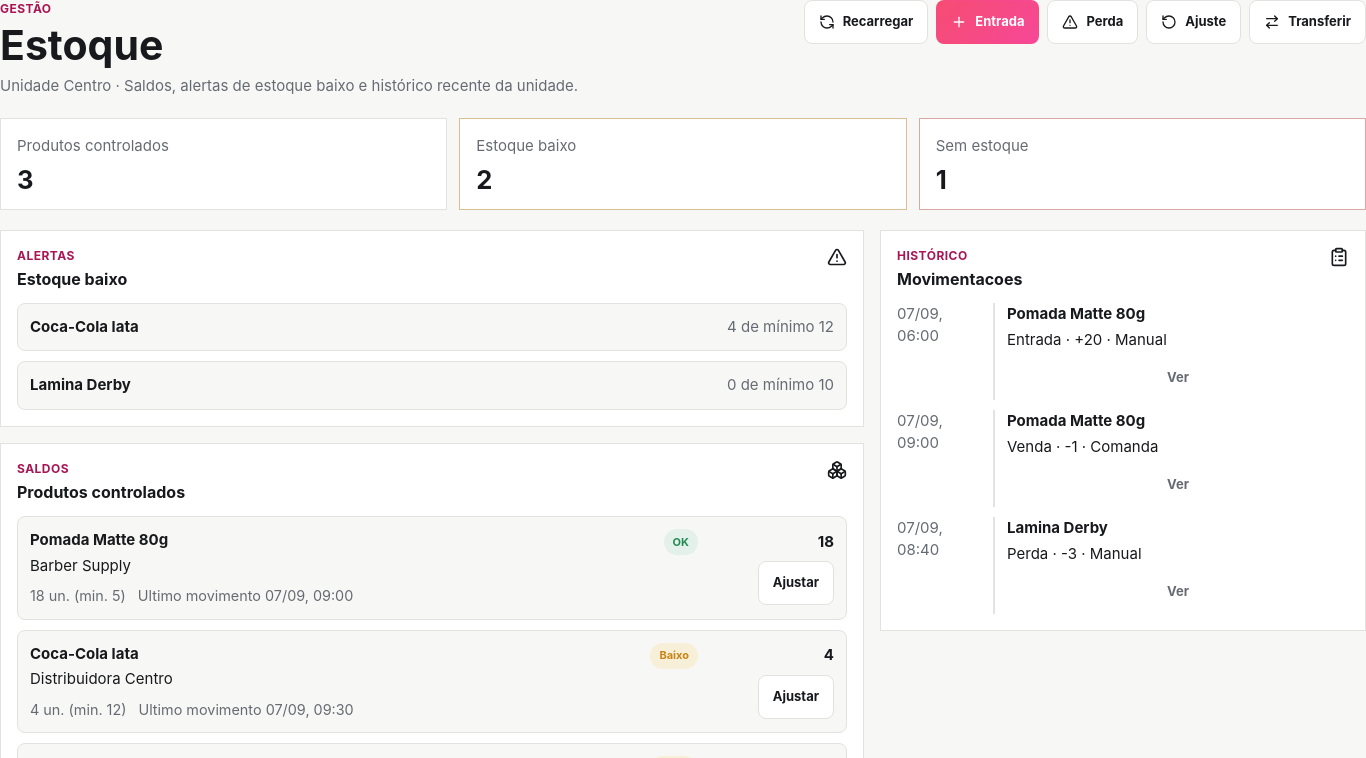
Test: InventoryView › opens manual entry, adjustment and movement detail dialogs
The width and height of the screenshot is (1366, 758).
What coordinates should you click on to do the following:
click the button "Entrada"
I would click on:
 (988, 22)
Its box is [936, 0, 1040, 44].
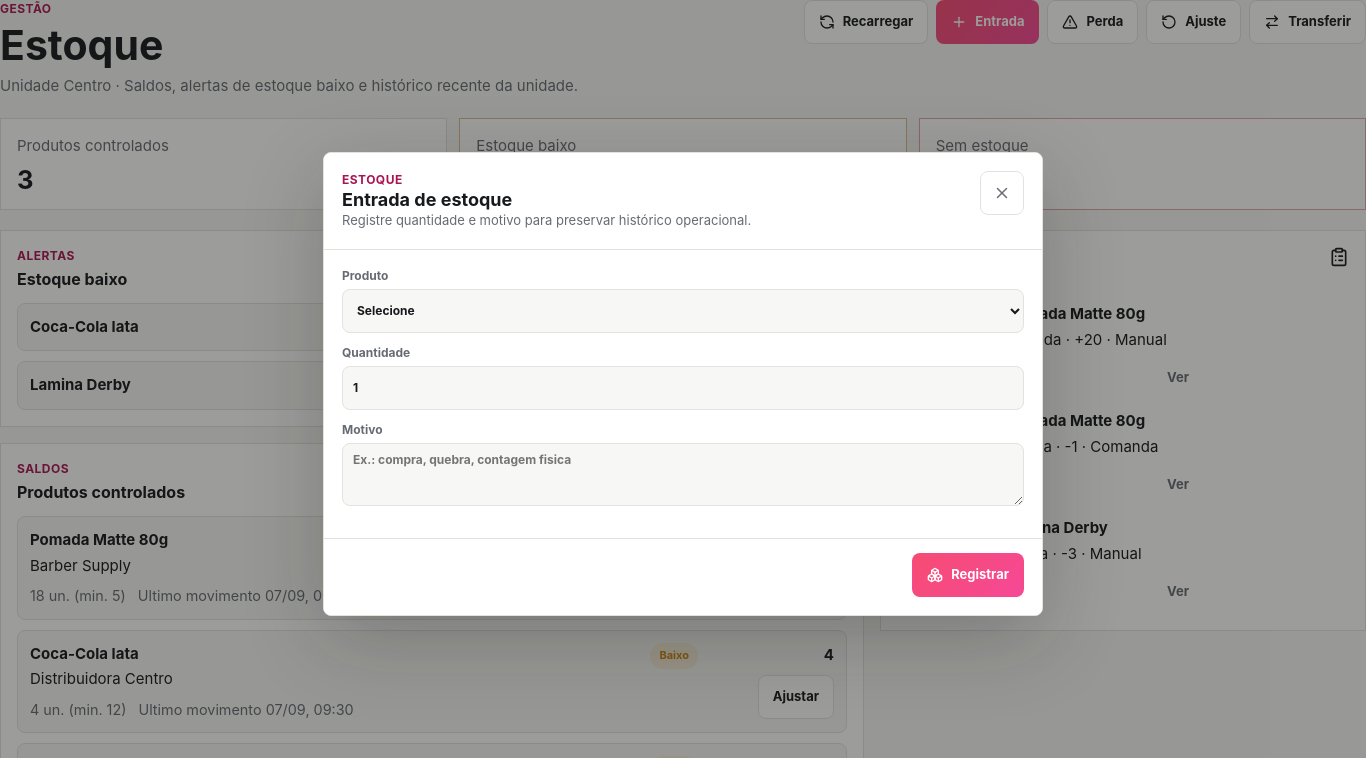
expect the dialog shows "Entrada de estoque": met, box [342, 190, 512, 210]
expect the button named "Fechar" is shown: met
What coordinates should you click on to do the following:
click the button named "Fechar"
I would click on:
 (1002, 194)
Its box is [980, 172, 1024, 216].
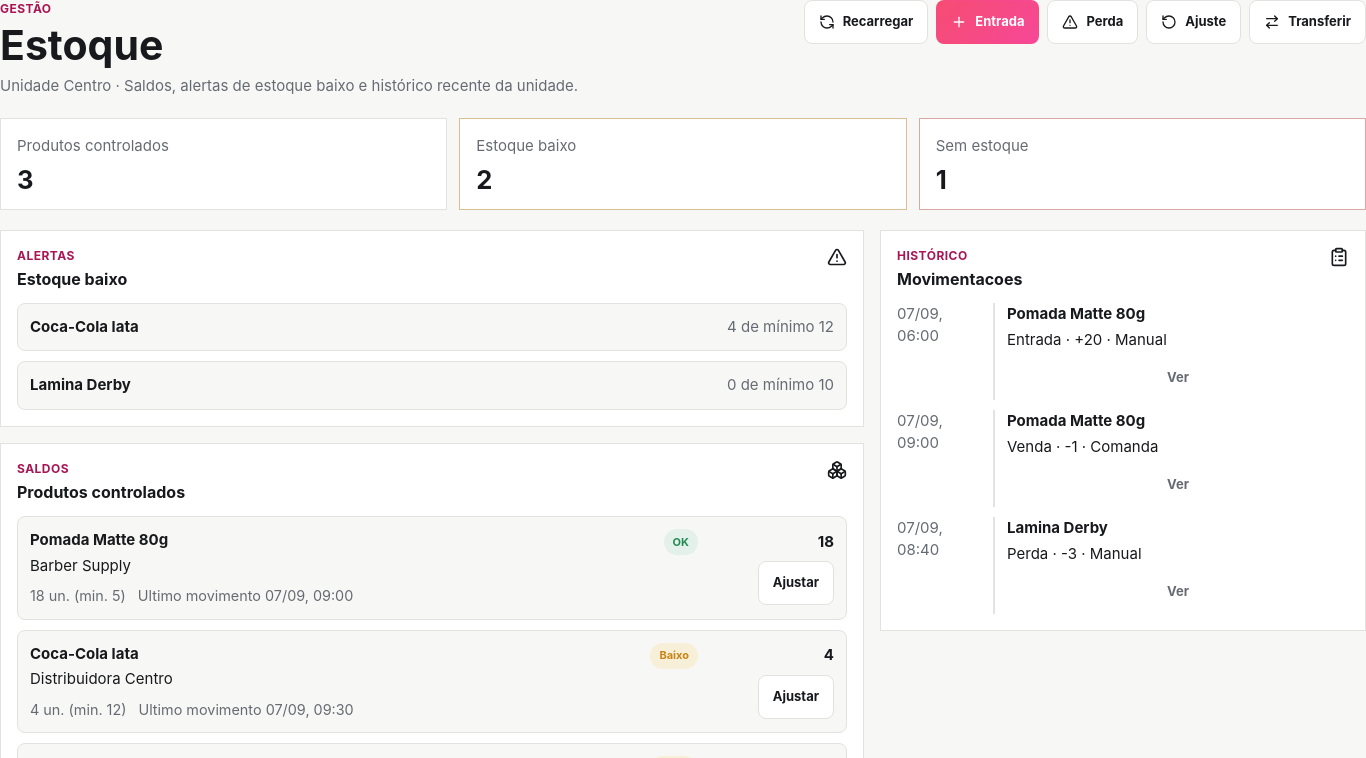
What coordinates should you click on to do the following:
click the button "Ajustar" in the row of "18 un. (min. 5)"
I would click on:
 (796, 583)
Its box is [758, 561, 834, 605].
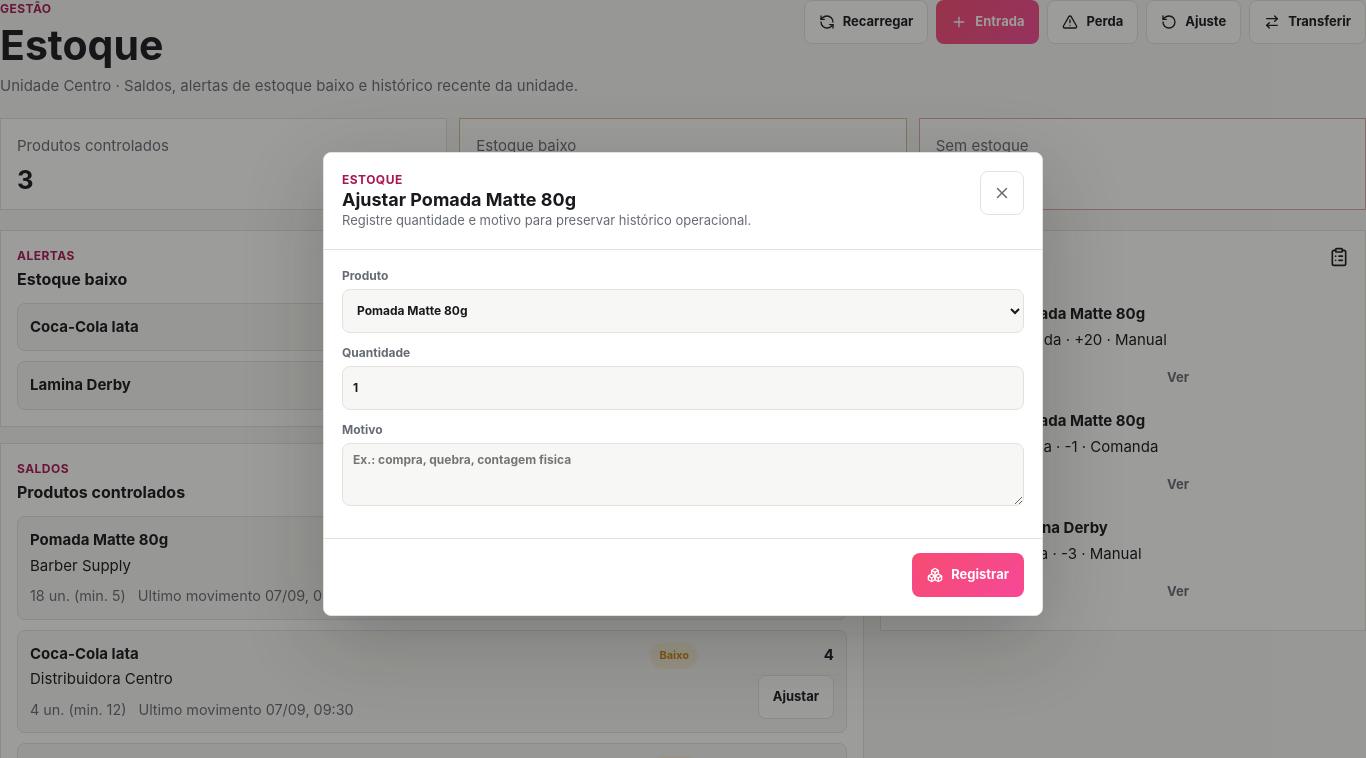
expect the dialog shows "Registrar": met, box [912, 552, 1024, 596]
expect the button named "Fechar" is shown: met
What coordinates should you click on to do the following:
click the button named "Fechar"
I would click on:
 (1002, 194)
Its box is [980, 172, 1024, 216].
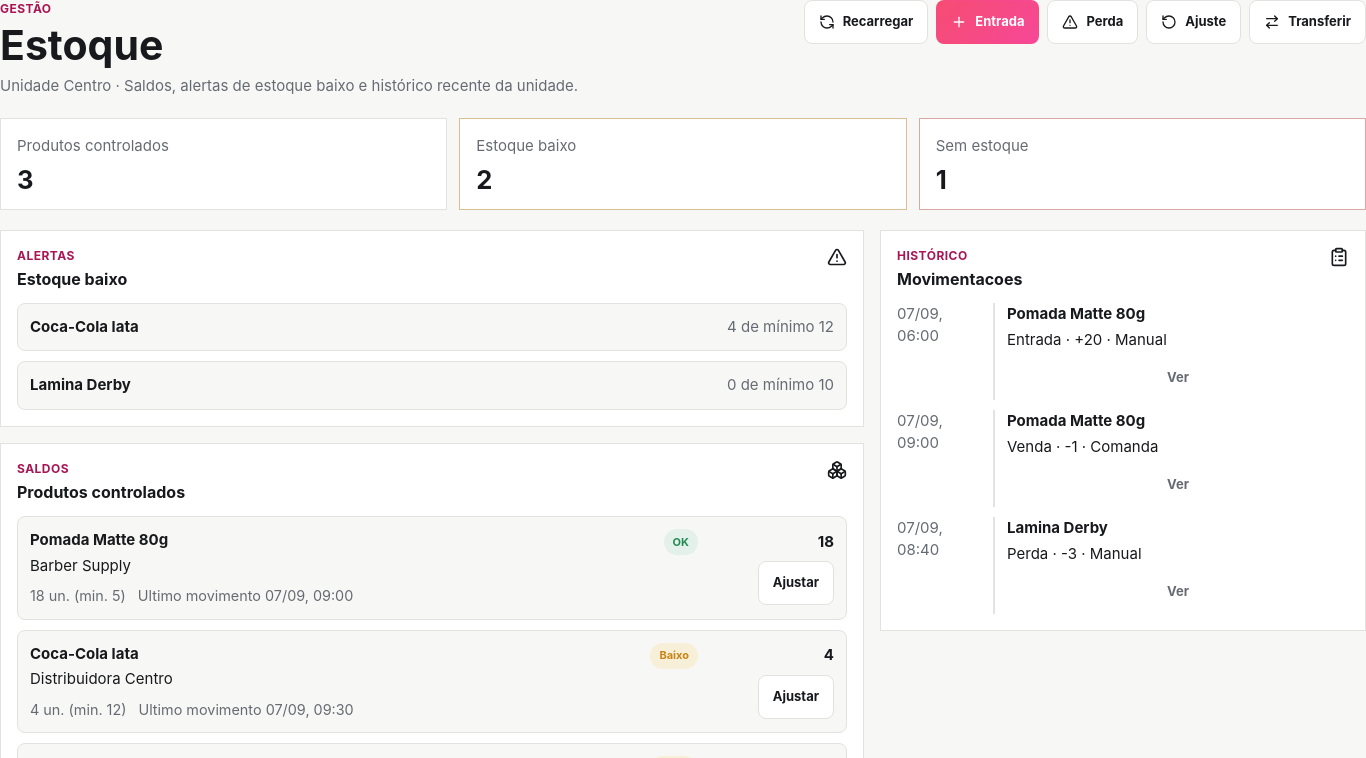
What coordinates should you click on to do the following:
click the button "Ver" below "+20"
I would click on:
 (1178, 378)
Its box is [1007, 356, 1349, 400].
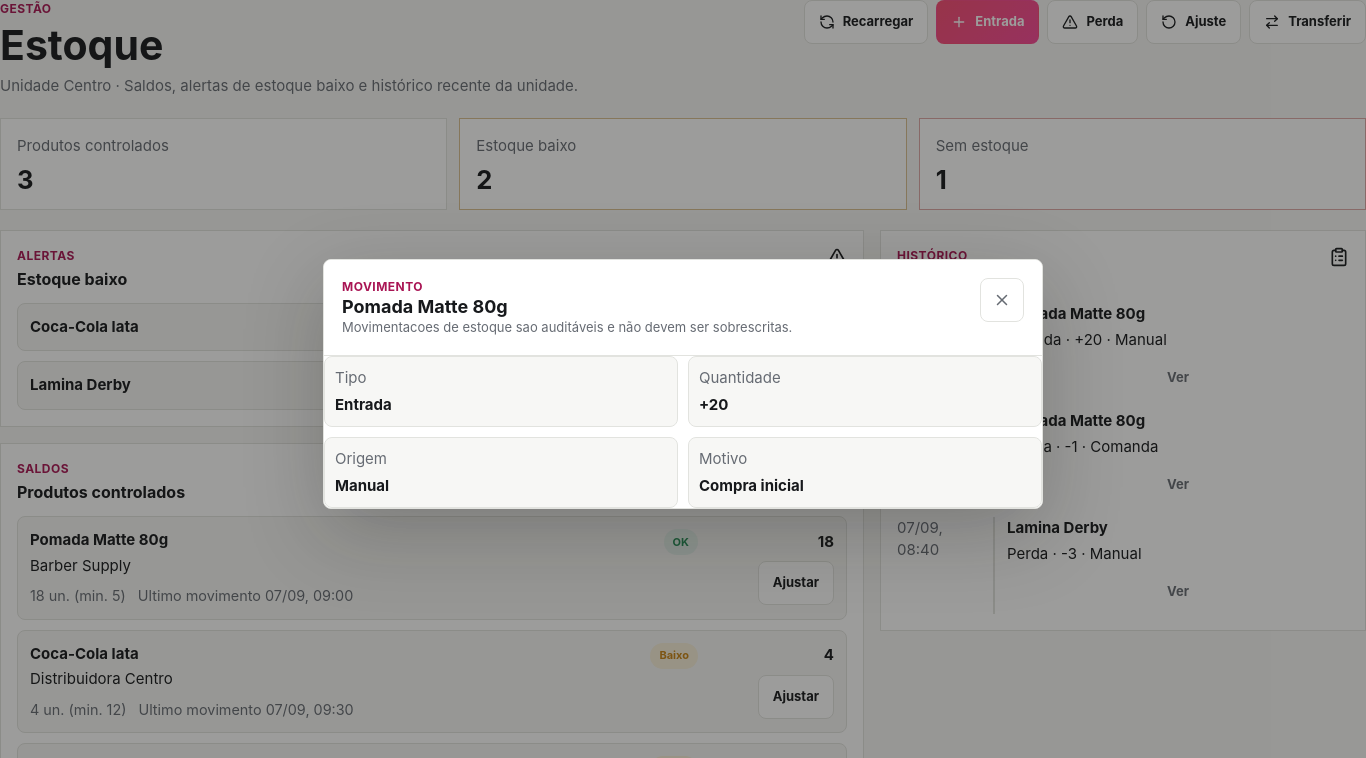
expect the dialog shows "Movimentacoes de estoque": met, box [342, 318, 792, 334]
